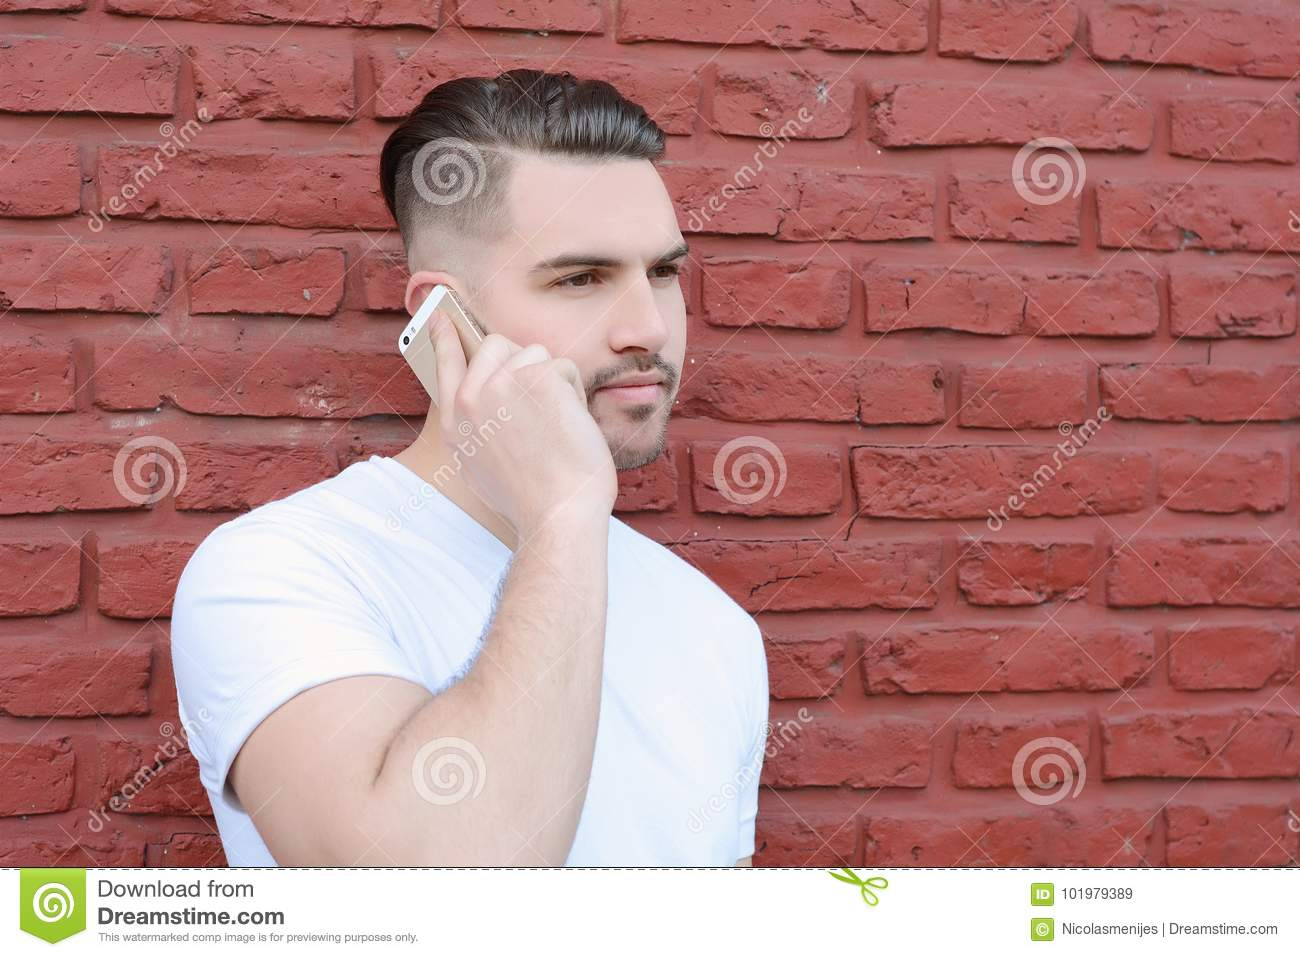phone: (397, 285, 498, 403)
talk: (394, 236, 695, 567)
